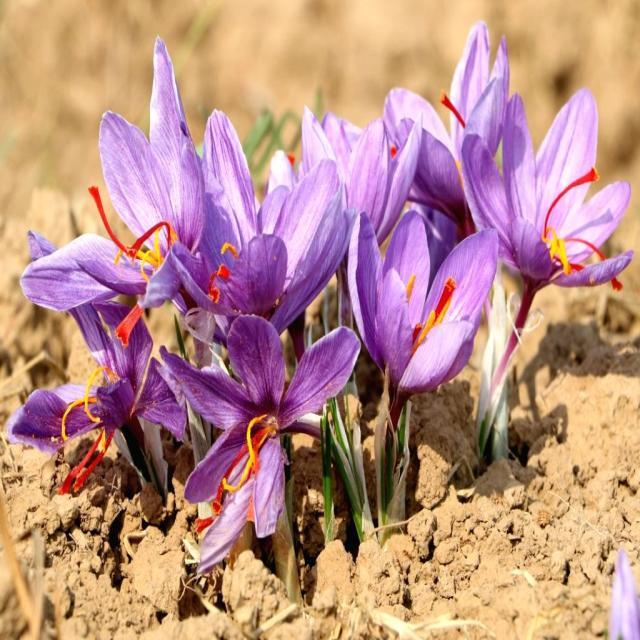Flower: (34, 150, 345, 341), (165, 328, 353, 534), (476, 97, 640, 297), (356, 187, 500, 390), (347, 95, 462, 222)
stigma: (541, 155, 599, 238), (88, 185, 140, 256), (59, 429, 104, 498), (429, 83, 479, 135), (423, 274, 464, 335), (107, 301, 162, 346)
